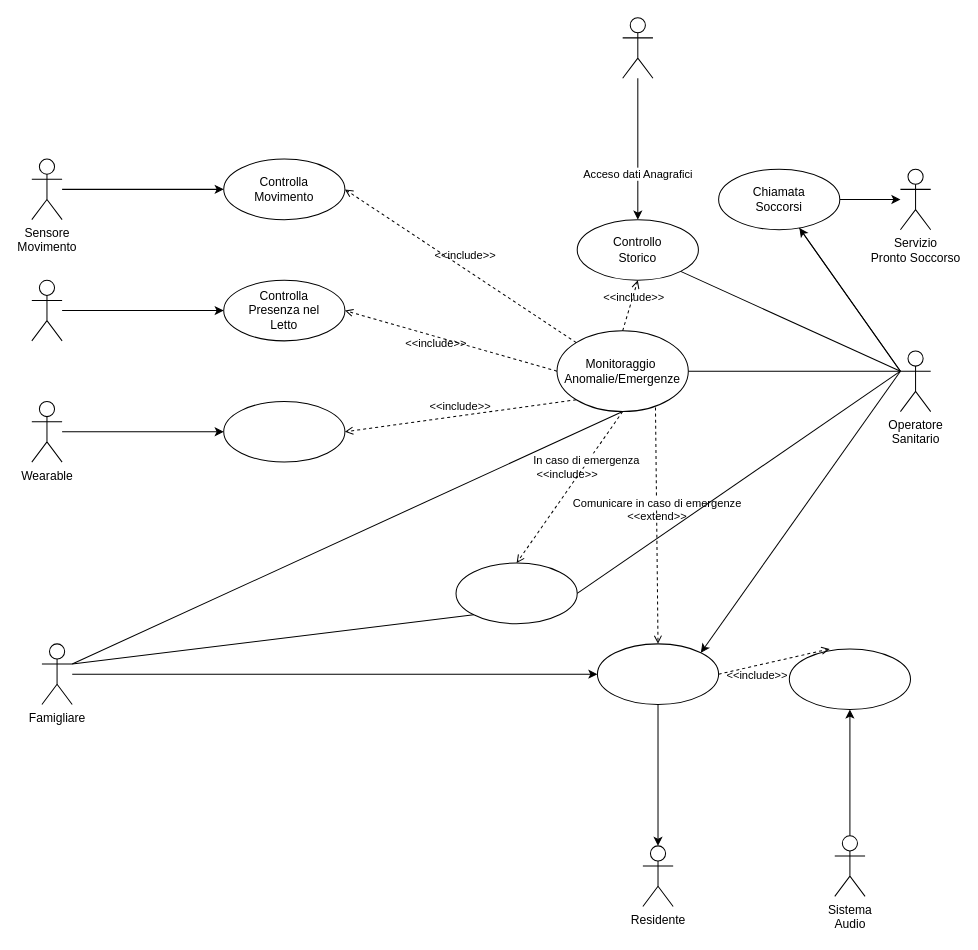
The diagram is 978 pixels wide and 950 high, and some of its shapes have lost their labels. The shapes that lost their labels are listed below. From the top down, each one's centre as x and y in pixels, then its label:
pixel 637 47: Base Dati Residenti
pixel 46 310: Sensore Pressione
pixel 284 431: Acquisici parametri
pixel 516 593: Notifica
pixel 657 673: Comunica
pixel 849 679: Instaura Comunicazione
